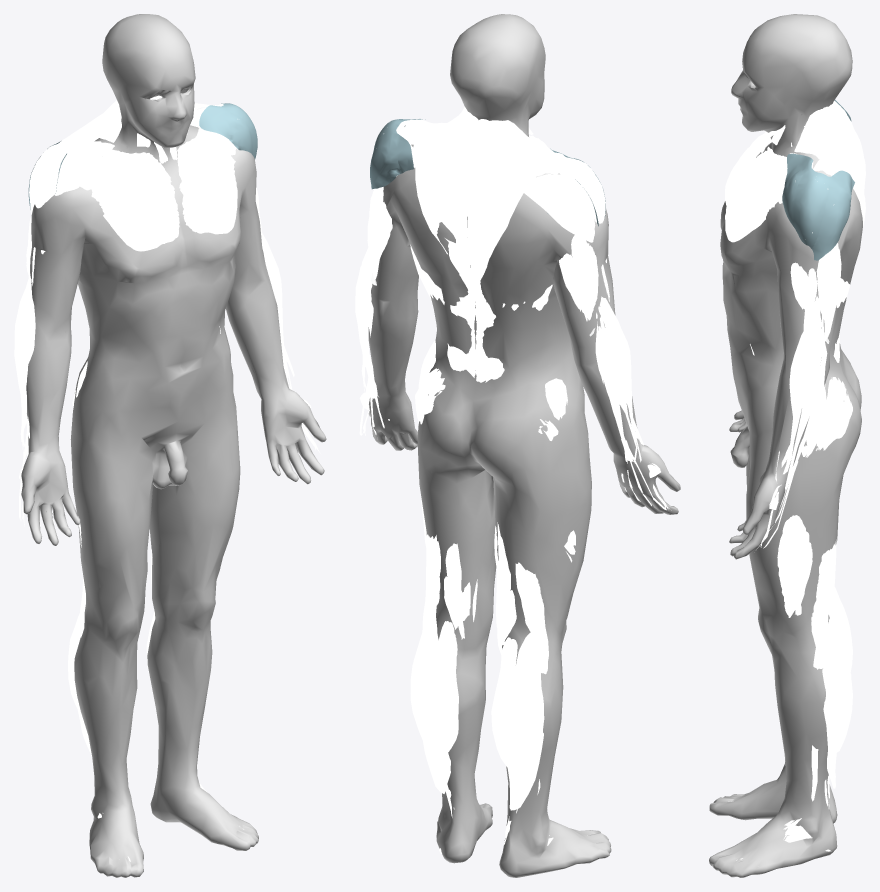
File: muscles.glb
The picture shows the model from 3 angles, left to right: view 1: azimuth 30°, elevation 25°; view 2: azimuth 150°, elevation 25°; view 3: azimuth 270°, elevation 25°; orthographic projection. The views are drawn at different scales.
Visible parts, largest first — view 1: skin, chest-middle, forearms, shoulders-lateral, chest-upper, shoulders-anterior, traps-middle, calves; view 2: skin, calves, traps-upper, traps-middle, forearms, hamstrings, triceps, lats, shoulders-lateral, shoulders-posterior, glutes, abductors; view 3: skin, forearms, shoulders-lateral, calves, chest-middle, traps-middle, quadriceps, hamstrings, glutes, triceps, biceps, traps-upper (+3 smaller).
Part boxes in pixels (<box>): skin: <box>21,14,326,877</box>; chest-middle: <box>91,149,237,251</box>; forearms: <box>14,233,320,861</box>; shoulders-lateral: <box>28,103,257,209</box>; chest-upper: <box>79,128,235,190</box>; shoulders-anterior: <box>55,115,237,195</box>; traps-middle: <box>58,100,220,145</box>; calves: <box>68,611,155,755</box>; skin: <box>368,14,680,877</box>; calves: <box>410,606,544,810</box>; traps-upper: <box>413,143,544,301</box>; traps-middle: <box>399,107,569,179</box>; forearms: <box>355,247,671,853</box>; hamstrings: <box>422,522,548,674</box>; triceps: <box>367,187,598,336</box>; lats: <box>410,244,552,382</box>; shoulders-lateral: <box>370,119,605,226</box>; shoulders-posterior: <box>373,131,595,242</box>; glutes: <box>415,368,558,440</box>; abductors: <box>418,340,567,420</box>; skin: <box>709,14,862,877</box>; forearms: <box>728,296,831,860</box>; shoulders-lateral: <box>782,100,854,260</box>; calves: <box>822,587,852,788</box>; chest-middle: <box>725,133,777,242</box>; traps-middle: <box>794,101,856,175</box>; quadriceps: <box>777,515,812,617</box>; hamstrings: <box>811,539,836,669</box>; glutes: <box>815,377,852,450</box>; triceps: <box>816,243,841,343</box>; biceps: <box>790,262,817,330</box>; traps-upper: <box>835,129,865,226</box>.
Bounding box in the file's own units: 0.6402 × 1.65 × 0.2851.
